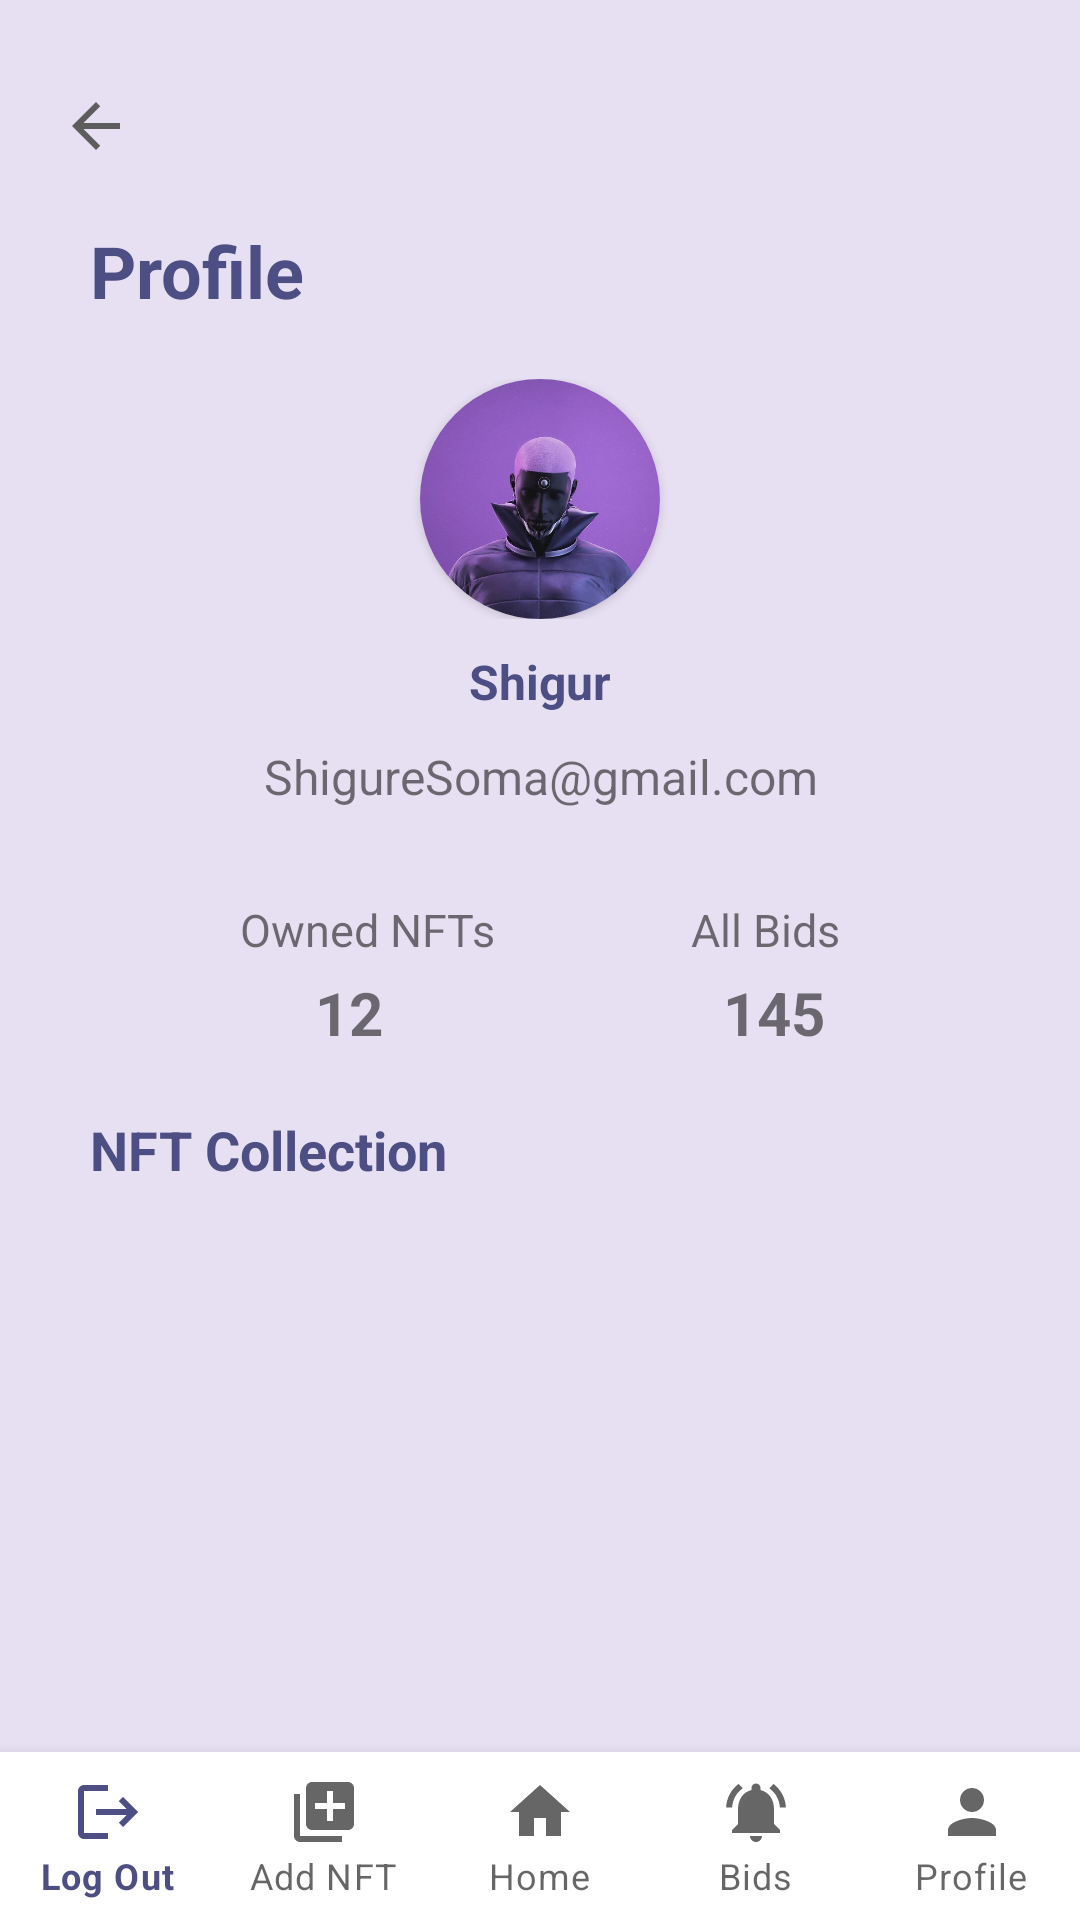

Icon bounding boxes for this 1080 x 1920 phone screenshot, format (x1, y1, x2, y2):
arrow back: (72, 102, 120, 150)
